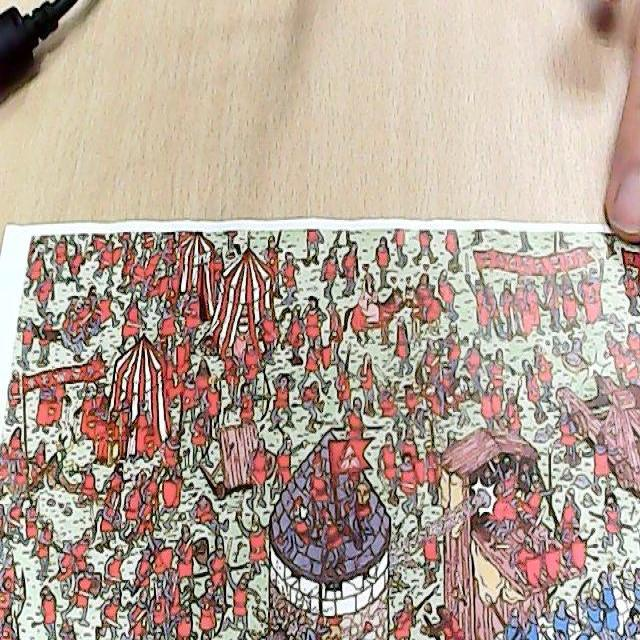waldo: (496, 410, 508, 434)
